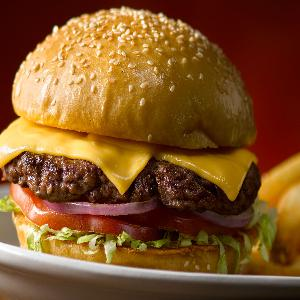cheeseburger: (7, 5, 286, 280)
